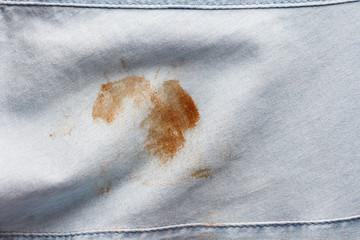gun: (89, 72, 200, 162), (97, 181, 112, 192), (188, 170, 211, 177), (121, 56, 129, 66), (49, 131, 54, 138)
